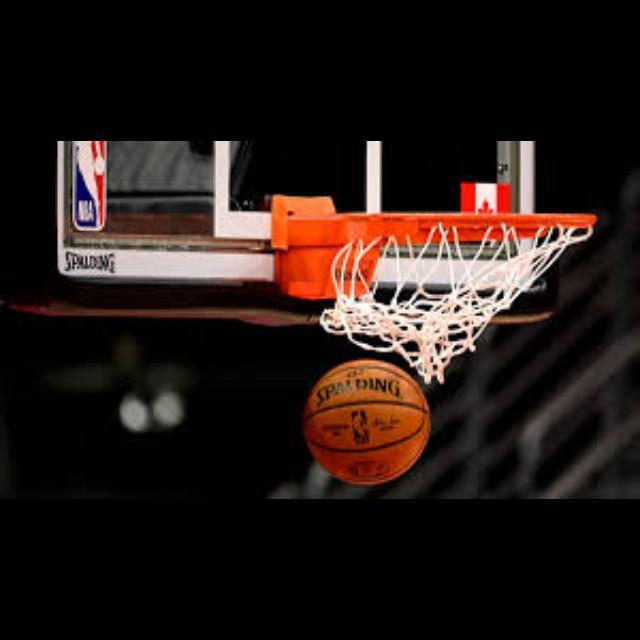basketball: (306, 362, 428, 484)
rim: (324, 212, 596, 360)
